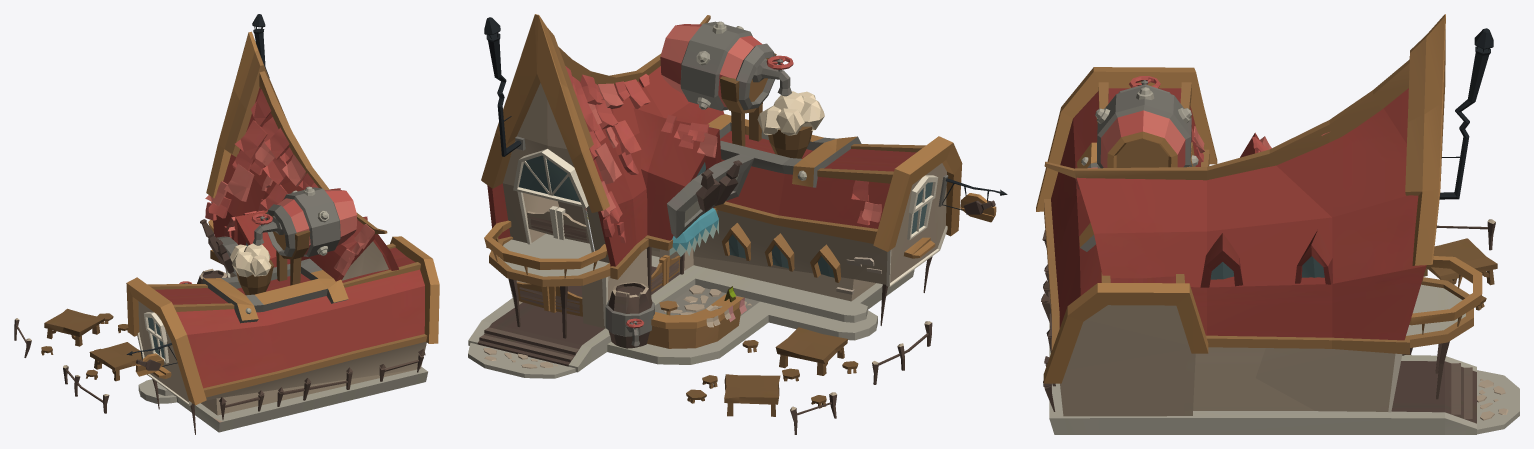
Rendered from chengjian_jiuguan3.FBX.
The picture shows the model from 3 angles, left to right: view 1: azimuth 30°, elevation 25°; view 2: azimuth 150°, elevation 25°; view 3: azimuth 270°, elevation 25°; orthographic projection. The views are drawn at different scales.
Visible parts, largest first — view 1: chengjian_jiuguan3; view 2: chengjian_jiuguan3; view 3: chengjian_jiuguan3.
Part boxes in pixels (left/top/right/bottom): chengjian_jiuguan3: left=14, top=14, right=439, bottom=434; chengjian_jiuguan3: left=468, top=14, right=1007, bottom=434; chengjian_jiuguan3: left=1036, top=14, right=1519, bottom=434.
Bounding box in the file's own units: 183 × 150 × 166.
